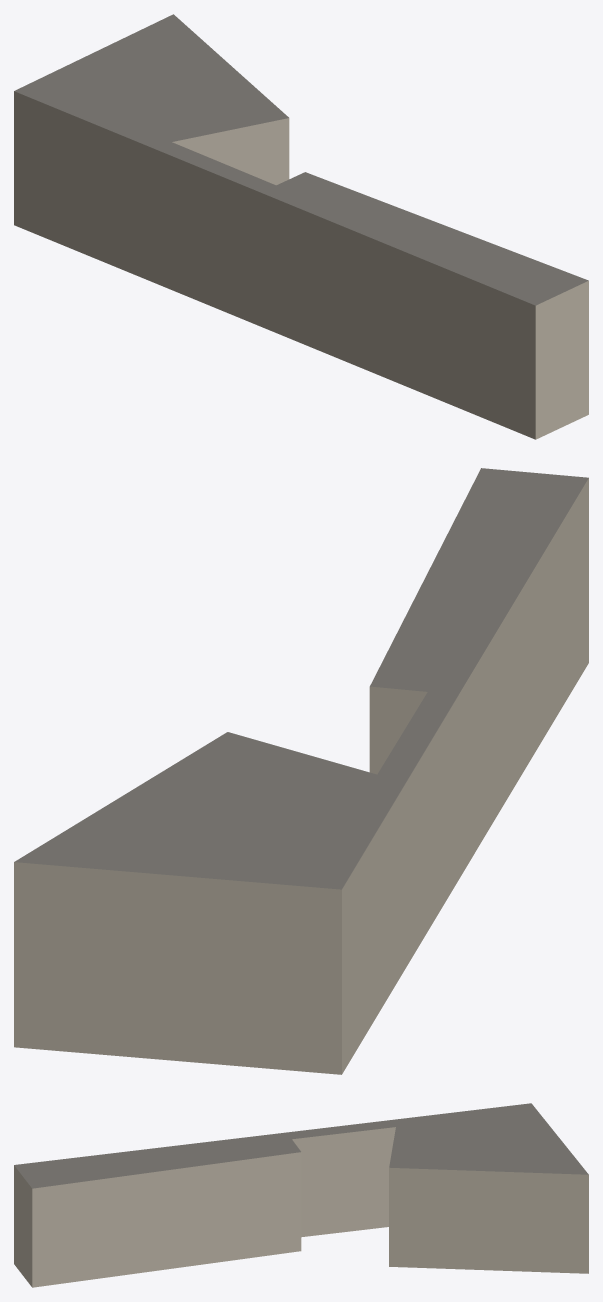
The picture shows the model from 3 angles, top to bottom: view 1: azimuth 30°, elevation 25°; view 2: azimuth 150°, elevation 25°; view 3: azimuth 270°, elevation 25°; orthographic projection. The views are drawn at different scales.
Parts seen in each view (by area): view 1: HP-w206164652; view 2: HP-w206164652; view 3: HP-w206164652.
Part boxes in pixels (left/top/right/bottom): HP-w206164652: left=14, top=14, right=588, bottom=439; HP-w206164652: left=14, top=468, right=588, bottom=1074; HP-w206164652: left=14, top=1103, right=588, bottom=1287.
Bounding box in the file's own units: 33.3 × 18 × 94.7.
